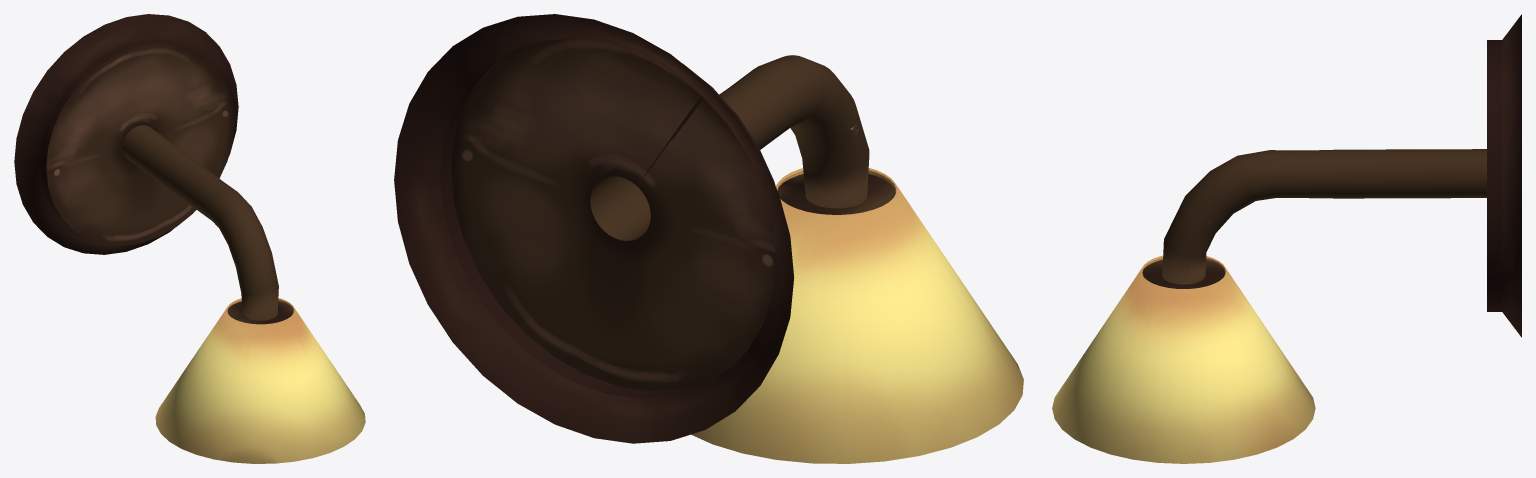
File: lamp (2).fbx
3 renders of one model, left to right at view 1: azimuth 30°, elevation 25°; view 2: azimuth 150°, elevation 25°; view 3: azimuth 270°, elevation 25°, orthographic. The views are drawn at different scales.
Parts seen in each view (by area): view 1: Circle.001, Circle; view 2: Circle.001, Circle; view 3: Circle, Circle.001.
Part boxes in pixels (x1=…): Circle.001: x1=14, y1=14, x2=293, y2=324; Circle: x1=155, y1=298, x2=365, y2=463; Circle.001: x1=394, y1=14, x2=895, y2=443; Circle: x1=691, y1=168, x2=1023, y2=463; Circle: x1=1052, y1=255, x2=1315, y2=463; Circle.001: x1=1142, y1=14, x2=1521, y2=337.
Bounding box in the file's own units: 20 × 25.85 × 28.98.
